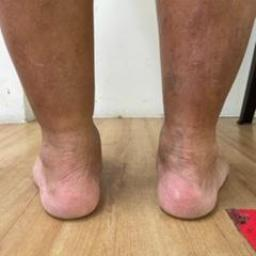Back View -Both Feet-: (20, 103, 239, 238)
